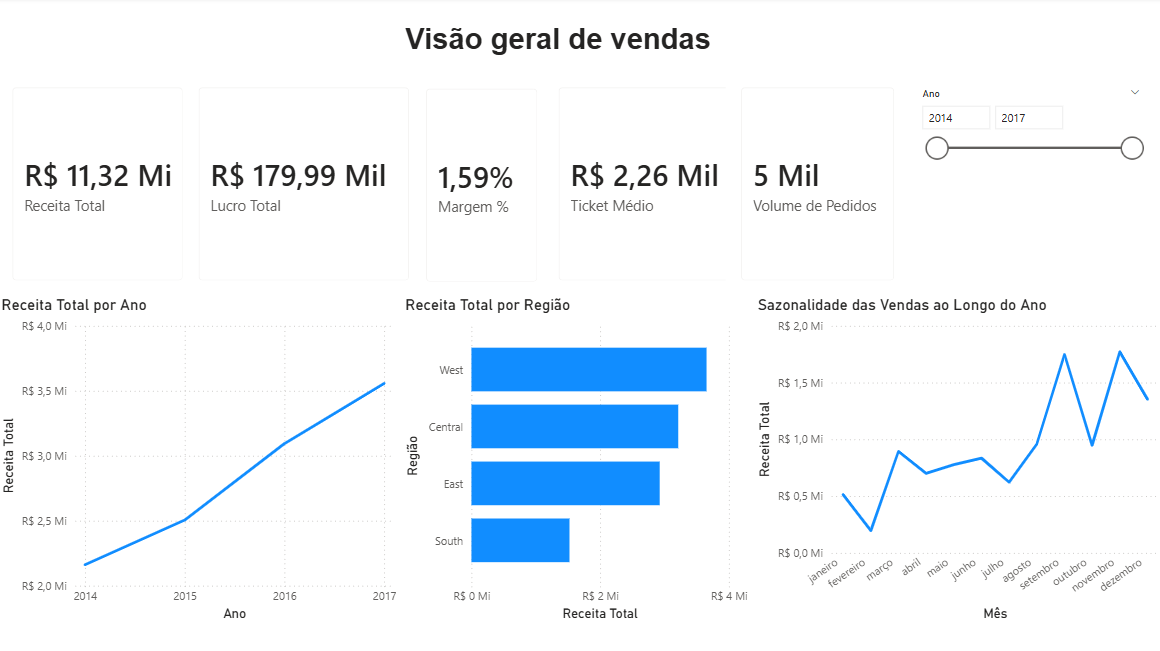

The dashboard page shown, as its layout file describes it:
{"tool":"powerbi","page":{"name":"KPI's","canvas":[1280,720],"ordinal":0},"visuals":[{"type":"cardVisual","fields":{"Data":["Sample - Superstore.Receita Total"]},"box":[0,81.7,221.3,246.8],"z":0},{"type":"cardVisual","fields":{"Data":["Sample - Superstore.Lucro Total"]},"box":[204.3,81.7,265.5,246.8],"z":1000},{"type":"cardVisual","fields":{"Data":["Sample - Superstore.Margem %"]},"box":[454.5,83.4,156.6,246.8],"z":2000},{"type":"cardVisual","fields":{"Data":["Sample - Superstore.Ticket Médio"]},"box":[599.1,81.7,229.8,246.8],"z":3000},{"type":"cardVisual","fields":{"Data":["Sample - Superstore.Volume de Pedidos"]},"box":[800,81.7,202.6,246.8],"z":4000},{"type":"lineChart","title":"Receita Total por Ano","fields":{"Y":["Sample - Superstore.Receita Total"],"Category":["Sample - Superstore.Year"]},"box":[0,328,443.2,362.3],"z":5000},{"type":"lineChart","title":"Sazonalidade das Vendas ao Longo do Ano","fields":{"Y":["Sample - Superstore.Receita Total"],"Category":["Sample - Superstore.Mês"]},"box":[830.2,328,450.1,362.3],"z":6000},{"type":"clusteredBarChart","title":"Receita Total por Região","fields":{"Category":["Sample - Superstore.Region"],"Y":["Sample - Superstore.Receita Total"]},"box":[442.6,328.5,386.4,362.6],"z":7000},{"type":"slicer","fields":{"Values":["Sample - Superstore.Year"]},"box":[1002.6,95.3,263.8,110.6],"z":8000},{"type":"textbox","box":[442.6,23.8,357.4,57.9],"z":9000}]}

Visuals, with their boxes in screenshot pixels (x1, y1, x2, y2), scaled from the page's 1280x720 canvas onto the 1160x651 screenshot:
cardVisual - Sample - Superstore.Receita Total: <bbox>0, 74, 201, 297</bbox>
cardVisual - Sample - Superstore.Lucro Total: <bbox>185, 74, 426, 297</bbox>
cardVisual - Sample - Superstore.Margem %: <bbox>412, 75, 554, 299</bbox>
cardVisual - Sample - Superstore.Ticket Médio: <bbox>543, 74, 751, 297</bbox>
cardVisual - Sample - Superstore.Volume de Pedidos: <bbox>725, 74, 909, 297</bbox>
"Receita Total por Ano" lineChart: <bbox>0, 297, 402, 624</bbox>
"Sazonalidade das Vendas ao Longo do Ano" lineChart: <bbox>752, 297, 1159, 624</bbox>
"Receita Total por Região" clusteredBarChart: <bbox>401, 297, 751, 625</bbox>
slicer - Sample - Superstore.Year: <bbox>909, 86, 1148, 186</bbox>
textbox: <bbox>401, 22, 725, 74</bbox>
